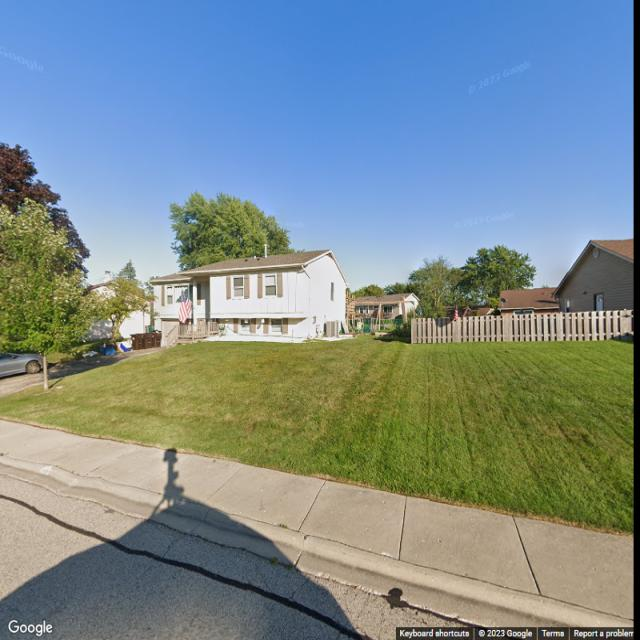House: (150, 244, 348, 346)
